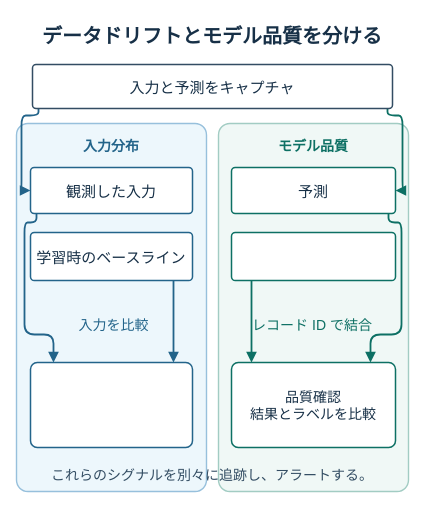
Some shapes in this 425 by 508 pixel diagram are drawn without their labels. Each missing label, with the centre of its shape:
"データドリフト 入力が変化" goes at (x=111, y=404).
"後から得る正解データ" goes at (x=313, y=256).
